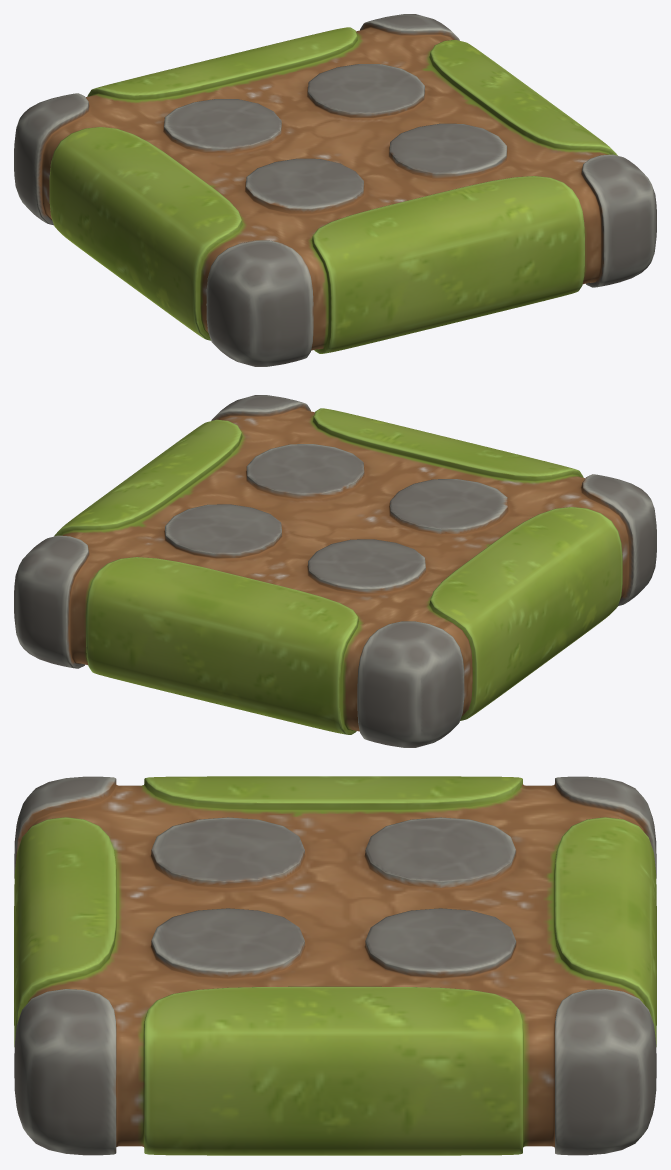
The model's file is arena block 2.fbx.
3 renders of one model, top to bottom at view 1: azimuth 30°, elevation 25°; view 2: azimuth 150°, elevation 25°; view 3: azimuth 270°, elevation 25°, orthographic. The views are drawn at different scales.
Visible parts, largest first — view 1: arena block 2 lp; view 2: arena block 2 lp; view 3: arena block 2 lp.
Part boxes in pixels (left/top/right/bottom): arena block 2 lp: left=14, top=14, right=656, bottom=366; arena block 2 lp: left=14, top=395, right=656, bottom=747; arena block 2 lp: left=14, top=776, right=656, bottom=1155.
Bounding box in the file's own units: 200 × 49.89 × 200.
